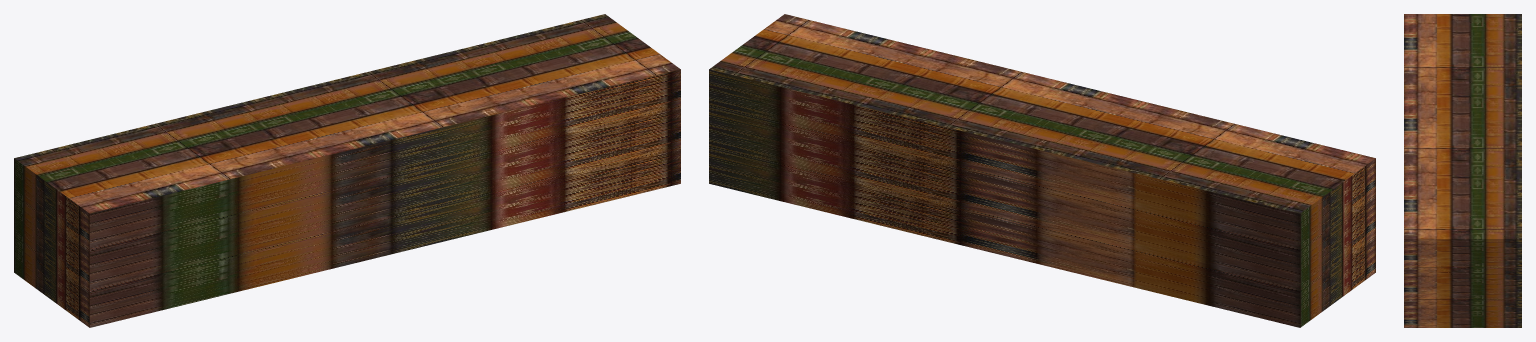
File: books.fbx
The picture shows the model from 3 angles, left to right: view 1: azimuth 30°, elevation 25°; view 2: azimuth 150°, elevation 25°; view 3: azimuth 270°, elevation 25°; orthographic projection. The views are drawn at different scales.
Parts seen in each view (by area): view 1: Cube.001; view 2: Cube.001; view 3: Cube.001.
Part boxes in pixels (x1,y1,x2,y2): Cube.001: (14, 14, 680, 327); Cube.001: (709, 14, 1375, 327); Cube.001: (1404, 14, 1521, 327).
Bounding box in the file's own units: 902 × 167 × 200.
Materials: 1 (1 with a texture image).
